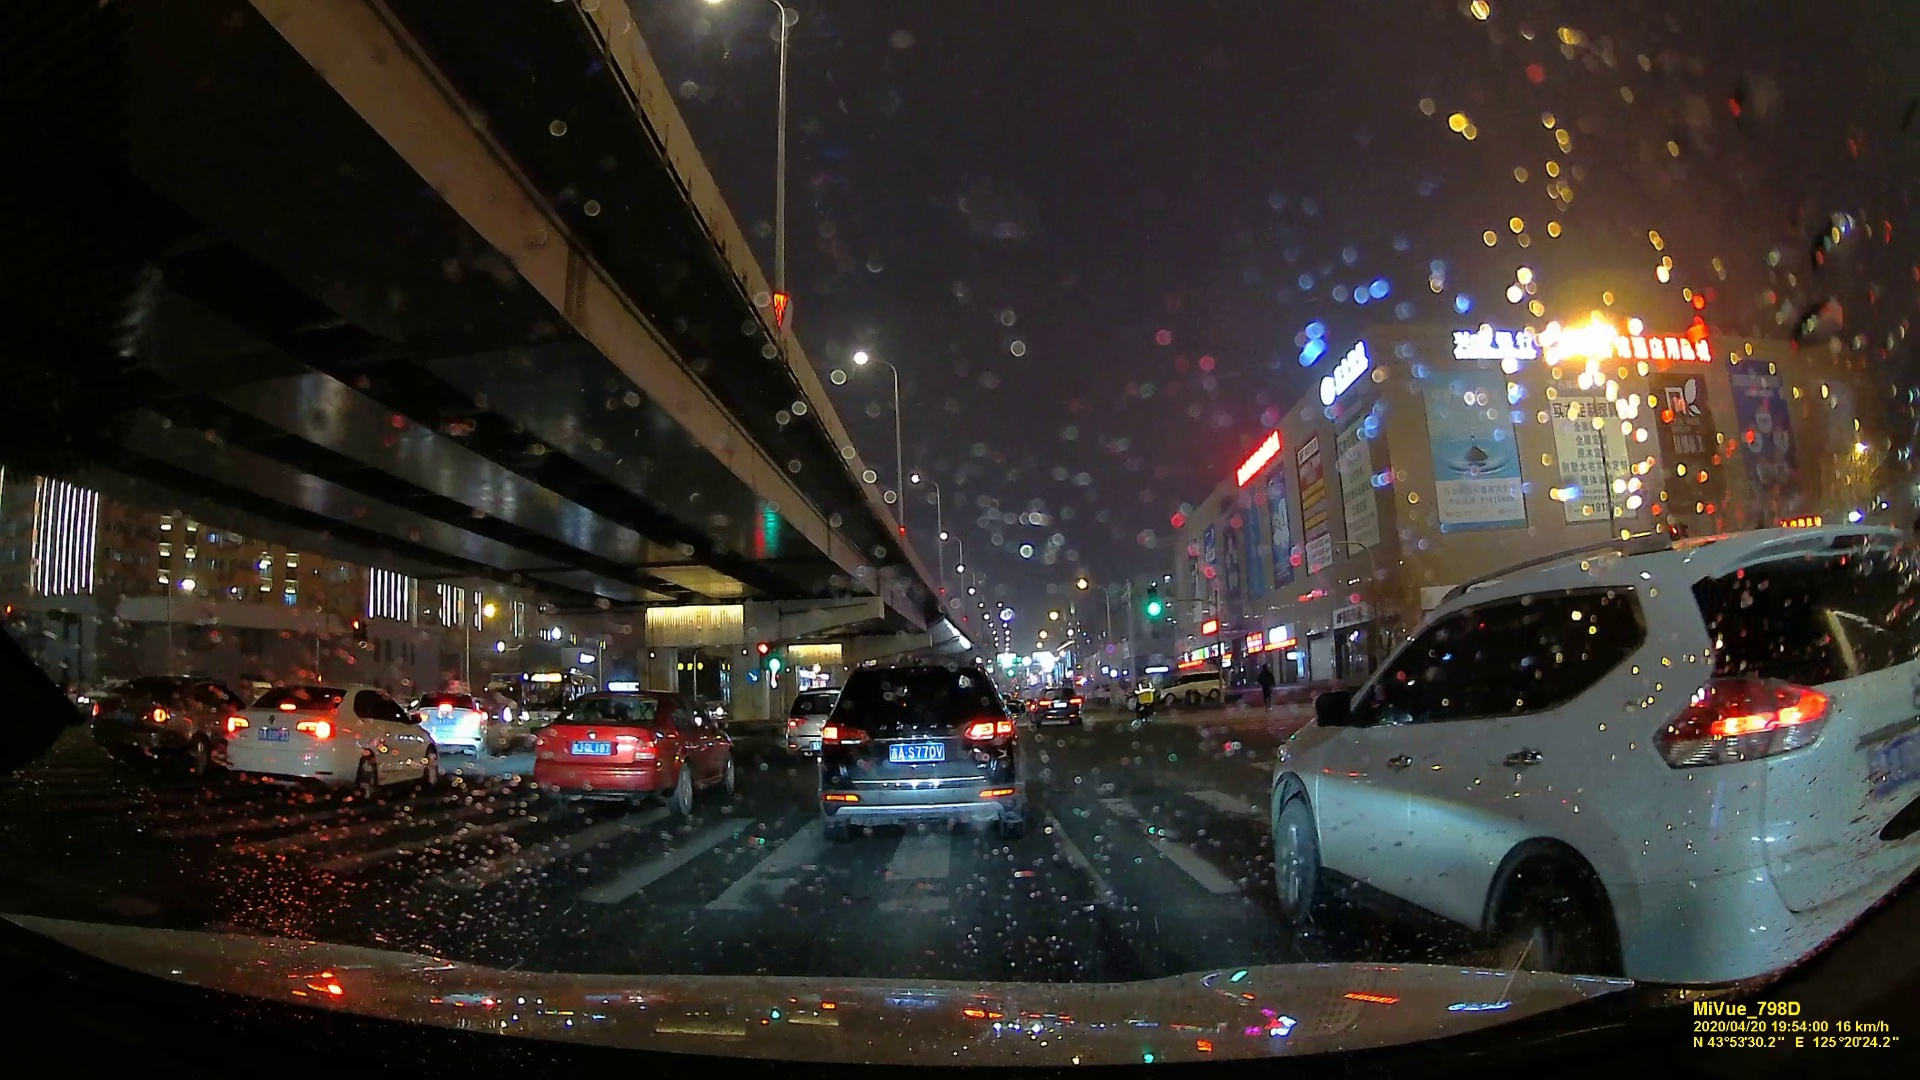person: (1029, 685, 1083, 728), (1256, 663, 1277, 711), (1131, 675, 1156, 707)
traffic_sign: (1146, 586, 1161, 616)
vehicle: (1264, 551, 1920, 975), (818, 656, 1025, 843), (535, 687, 739, 818), (223, 680, 437, 800), (91, 670, 221, 772)
